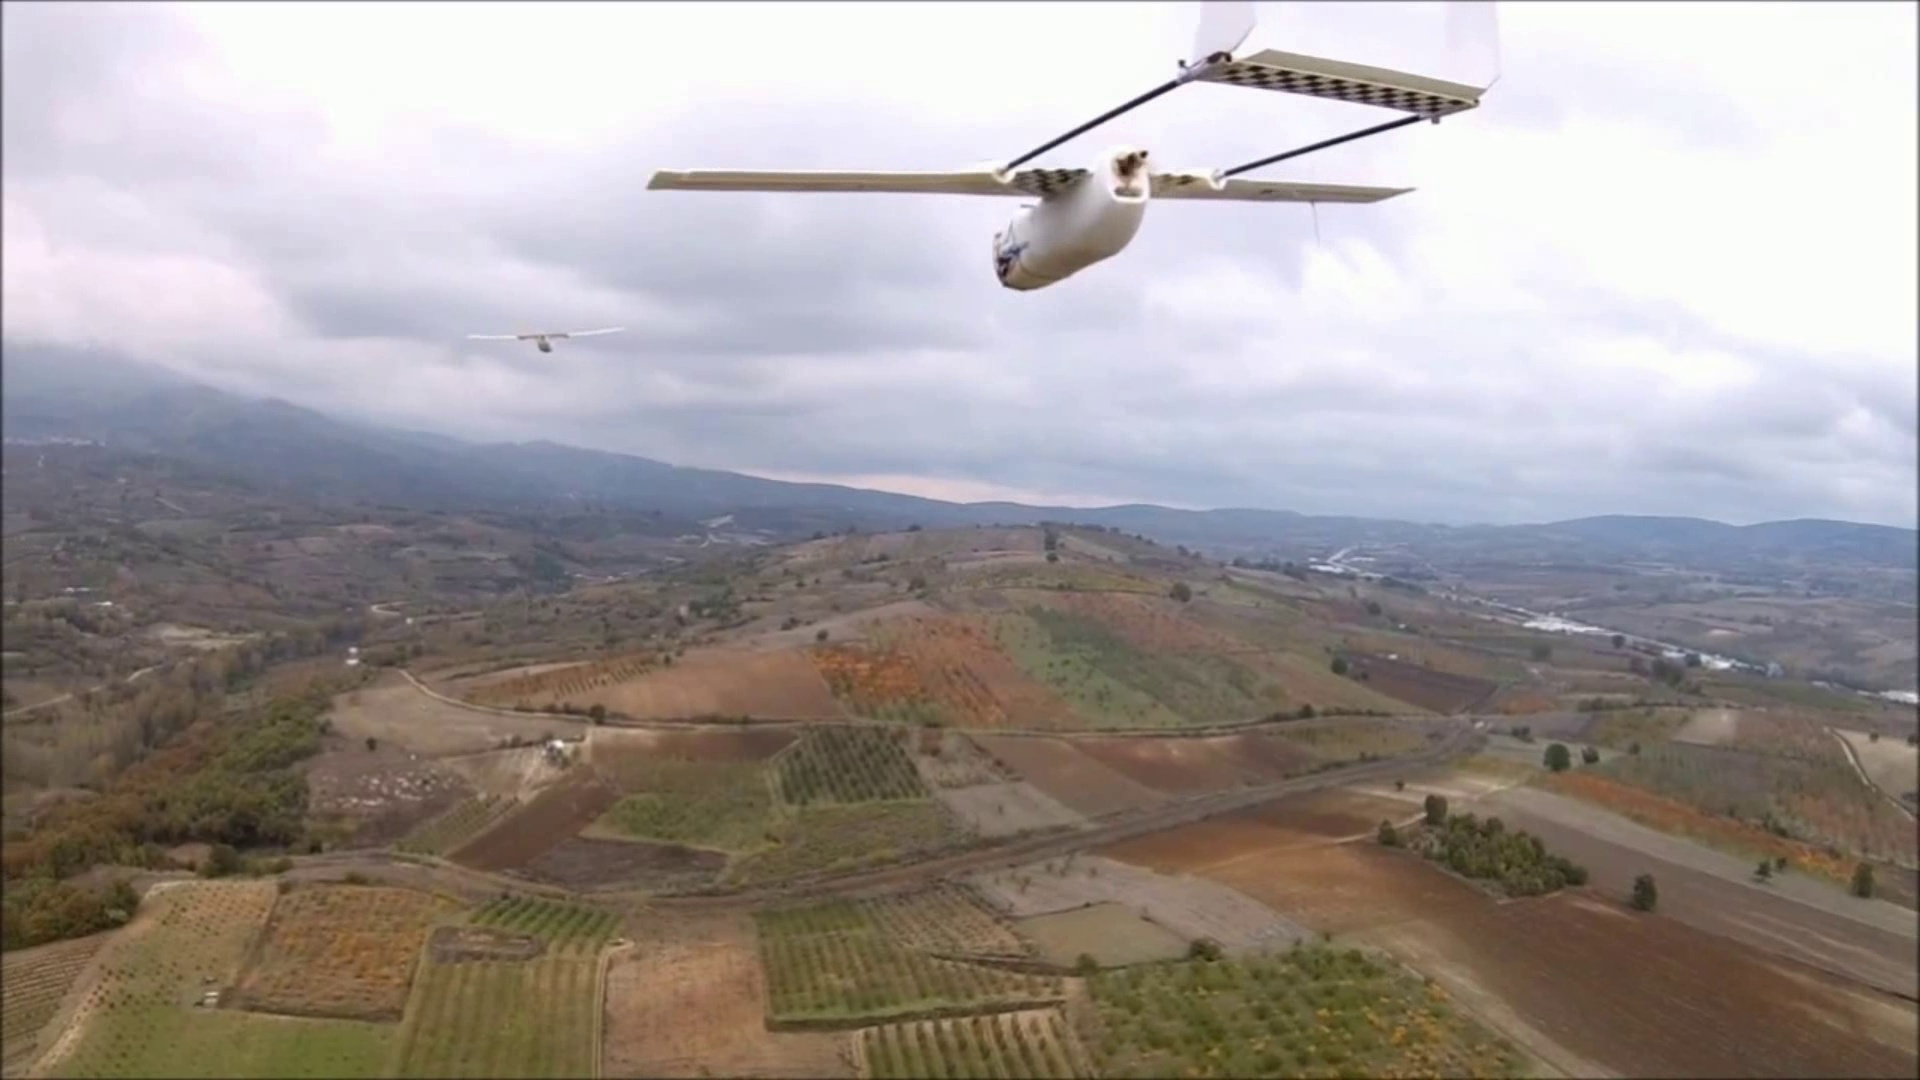airplane: (649, 7, 1502, 293)
